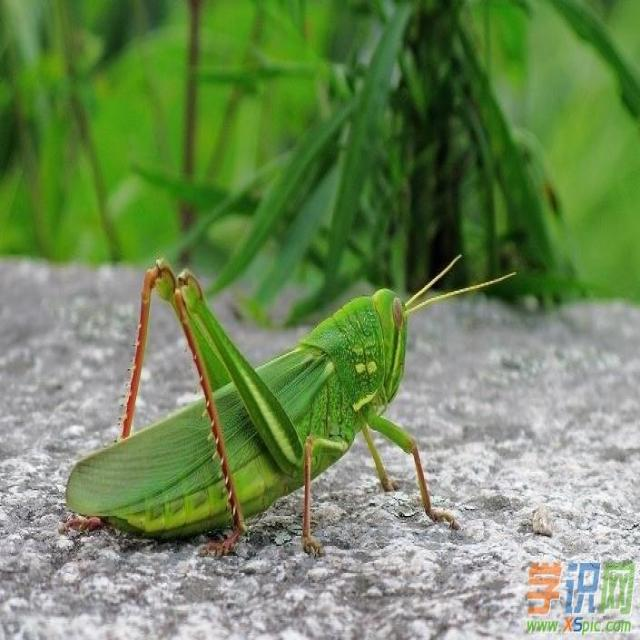ZhaMeng: (57, 239, 524, 567)
